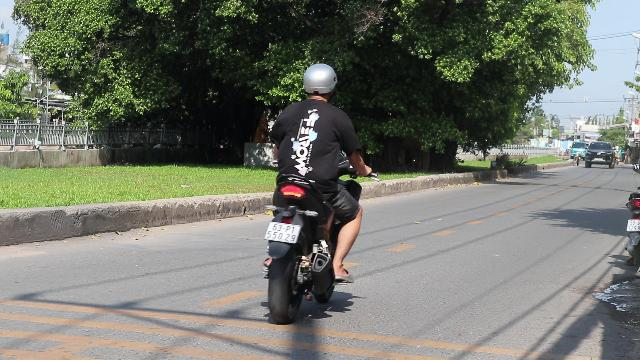helmet: (302, 63, 338, 101)
licenseplate: (265, 222, 299, 243)
motorcyclist: (260, 63, 372, 321)
